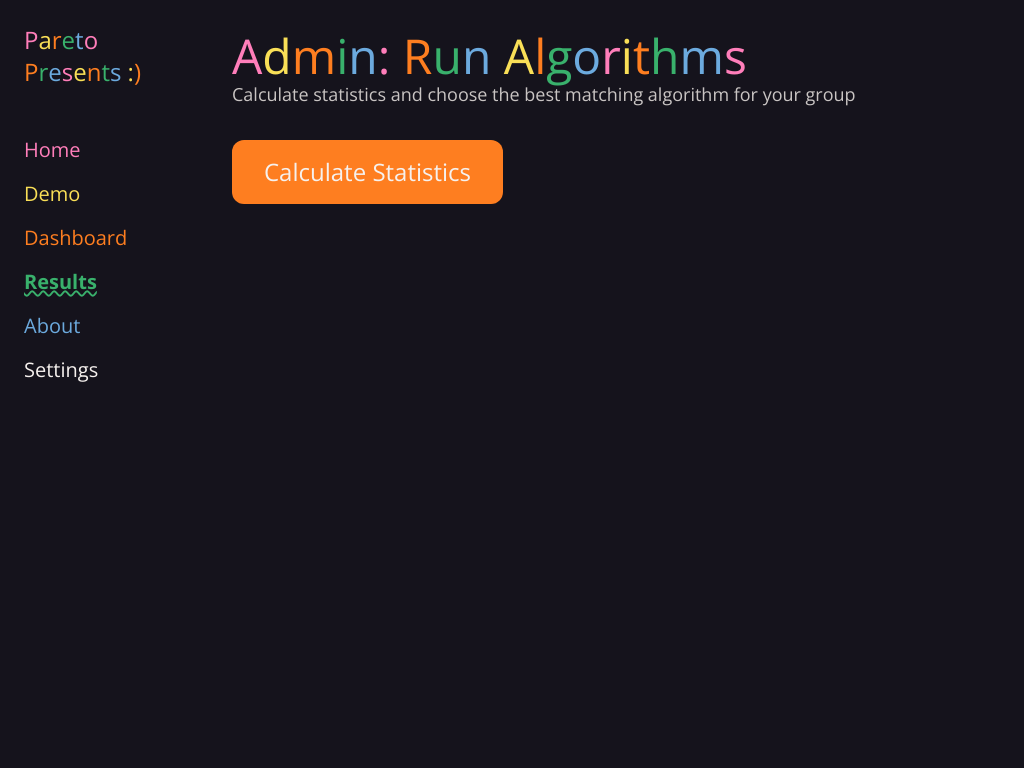
Scenario: ResultsPage › Admin - Calculate Statistics › shows warning toast when no preferences exist
Click the button "Calculate Statistics": (368, 172) [232,140,503,204]
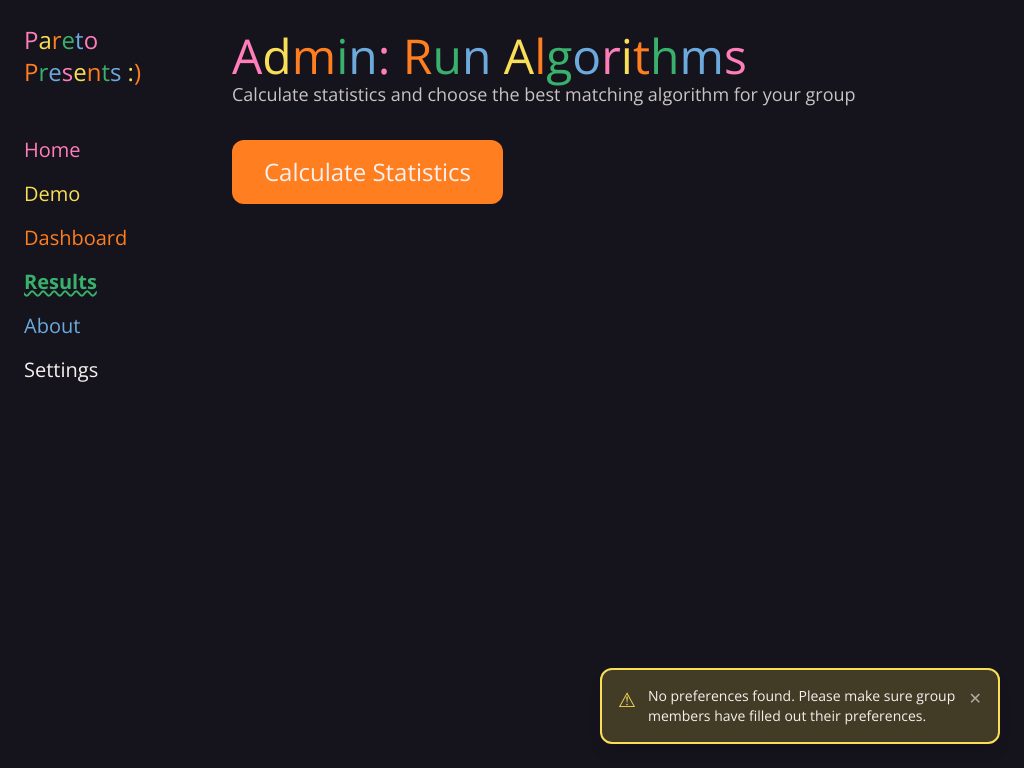
Check: the text "No preferences found" is shown, box [648,686,955,725]
